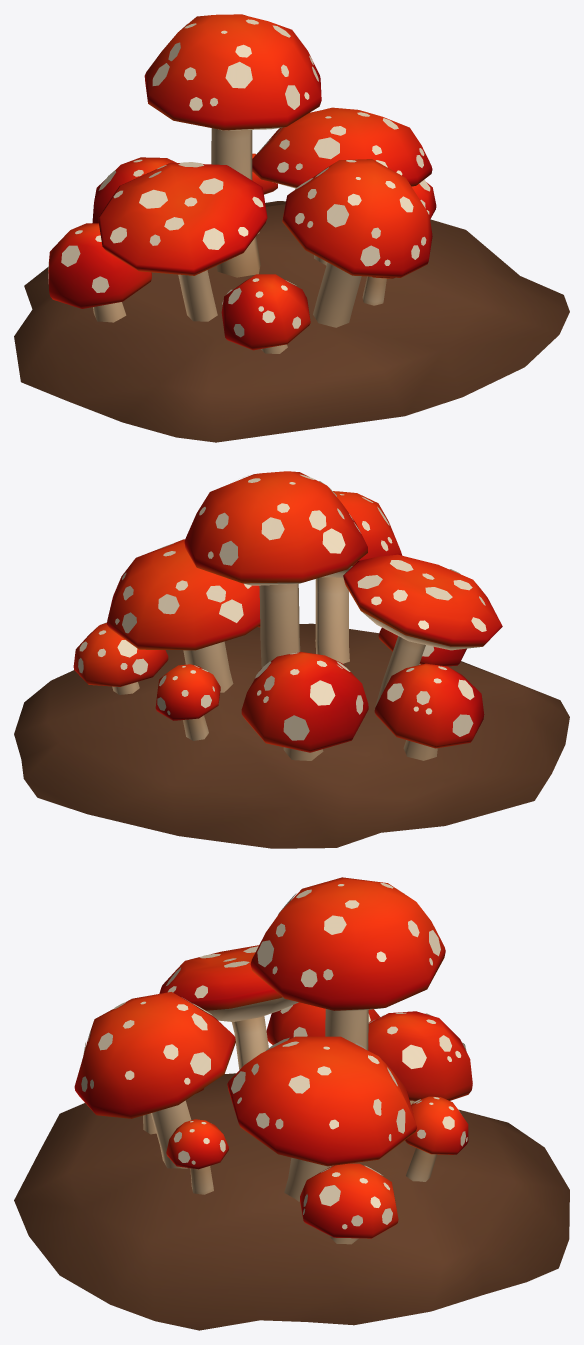
The model's file is SM_PlantSoil_AmanitaMushroom_Lv3.fbx.
3 views of the same model, one above another, from view 1: azimuth 30°, elevation 25°; view 2: azimuth 150°, elevation 25°; view 3: azimuth 270°, elevation 25° (orthographic). The views are drawn at different scales.
Parts seen in each view (by area): view 1: SM_PlantSoil_AmanitaMushroom_Lv3; view 2: SM_PlantSoil_AmanitaMushroom_Lv3; view 3: SM_PlantSoil_AmanitaMushroom_Lv3.
Boxes of the visible parts, x1,y1,x2,y2 form: SM_PlantSoil_AmanitaMushroom_Lv3: (14, 14, 569, 442); SM_PlantSoil_AmanitaMushroom_Lv3: (14, 471, 569, 848); SM_PlantSoil_AmanitaMushroom_Lv3: (14, 877, 569, 1330).
Bounding box in the file's own units: 118 × 70.39 × 106.
